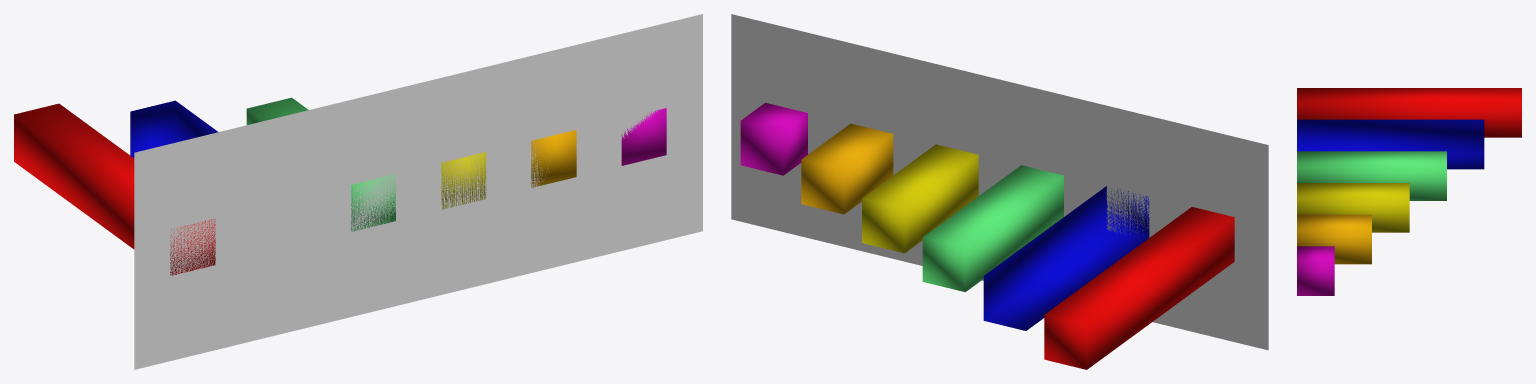
Rendered from graph.fbx.
3 views of the same model, side by side, from view 1: azimuth 30°, elevation 25°; view 2: azimuth 150°, elevation 25°; view 3: azimuth 270°, elevation 25° (orthographic). The views are drawn at different scales.
Parts seen in each view (by area): view 1: Plane; view 2: Plane; view 3: Plane.
Boxes of the visible parts, <box> form: Plane: <box>14,14,702,369</box>; Plane: <box>731,14,1268,369</box>; Plane: <box>1297,88,1521,295</box>.
Size of the model in its own units: 12.6 by 4.6 by 6.
